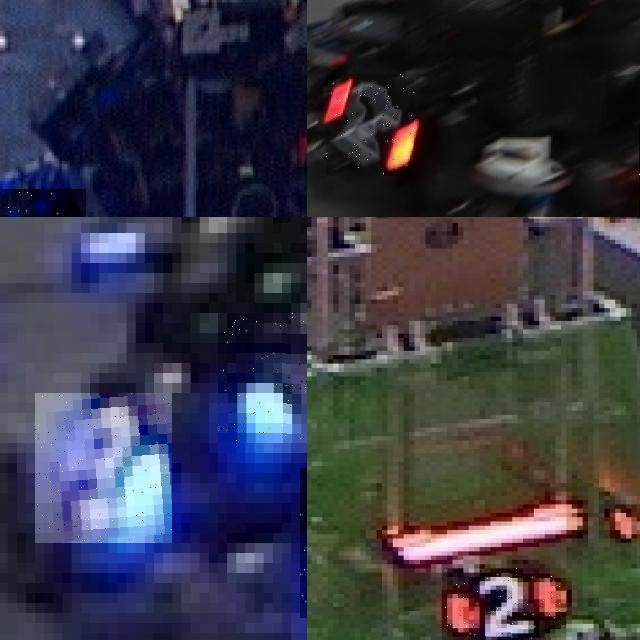B1: (0, 189, 86, 217)
B3: (35, 393, 172, 543), (217, 313, 307, 443)
R2: (441, 568, 566, 640)
Rs: (326, 74, 414, 176)
